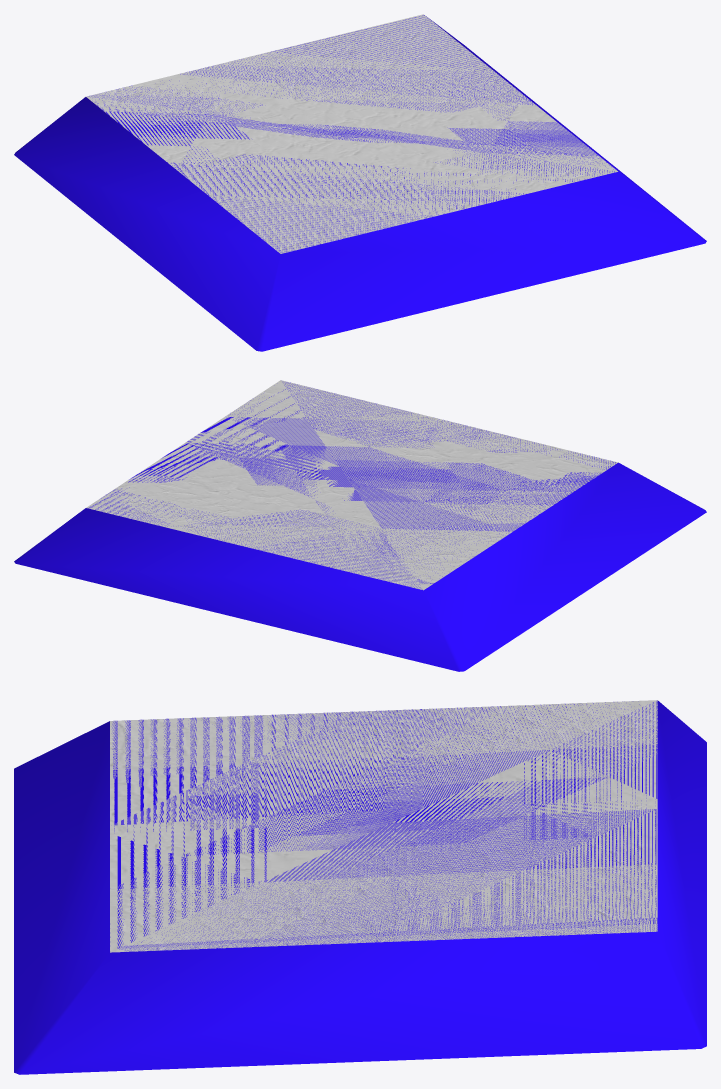
The model's file is original-91.obj.
3 views of the same model, one above another, from view 1: azimuth 30°, elevation 25°; view 2: azimuth 150°, elevation 25°; view 3: azimuth 270°, elevation 25° (orthographic). The views are drawn at different scales.
Visible parts, largest first — view 1: Group91/mesh84/mesh84-geometry#mesh84-geometry; view 2: Group91/mesh84/mesh84-geometry#mesh84-geometry; view 3: Group91/mesh84/mesh84-geometry#mesh84-geometry.
Boxes of the visible parts, x1,y1,x2,y2 form: Group91/mesh84/mesh84-geometry#mesh84-geometry: [14, 14, 706, 351]; Group91/mesh84/mesh84-geometry#mesh84-geometry: [14, 380, 706, 671]; Group91/mesh84/mesh84-geometry#mesh84-geometry: [14, 700, 706, 1074].
Size of the model in its own units: 0.0754 by 0.0119 by 0.0715.
